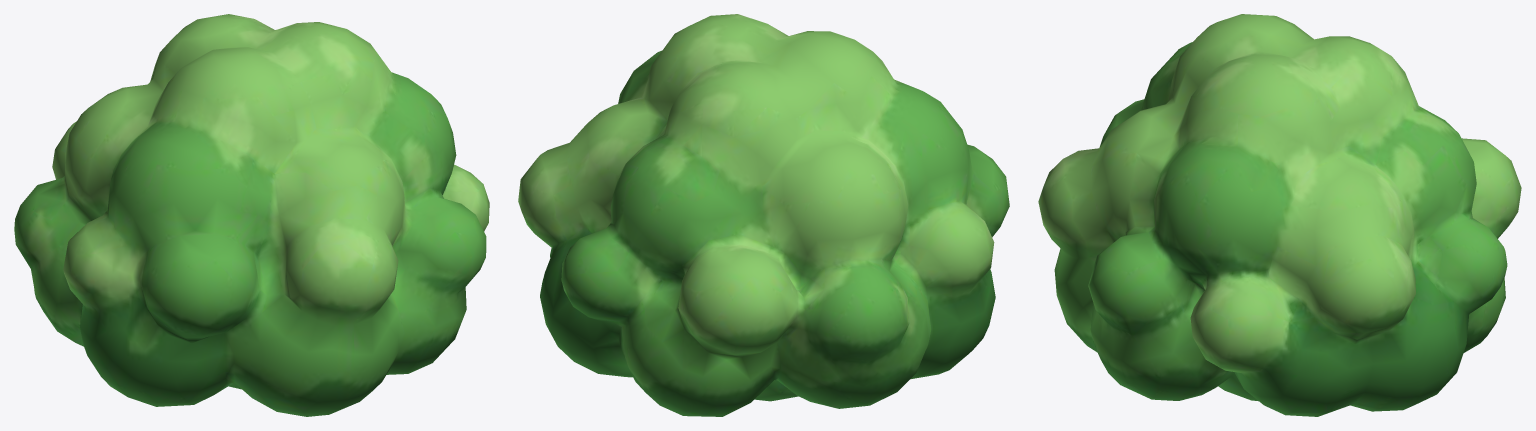
The model's file is canopy.glb.
3 views of the same model, side by side, from view 1: azimuth 30°, elevation 25°; view 2: azimuth 150°, elevation 25°; view 3: azimuth 270°, elevation 25° (orthographic).
Parts seen in each view (by area): view 1: canopy; view 2: canopy; view 3: canopy.
Part boxes in pixels (box(x1,y1,x2,y2)): canopy: box(14, 14, 489, 416); canopy: box(518, 14, 1009, 416); canopy: box(1038, 14, 1521, 416).
Bounding box in the file's own units: 30 × 24 × 30.
Materials: 1 (1 with a texture image).
